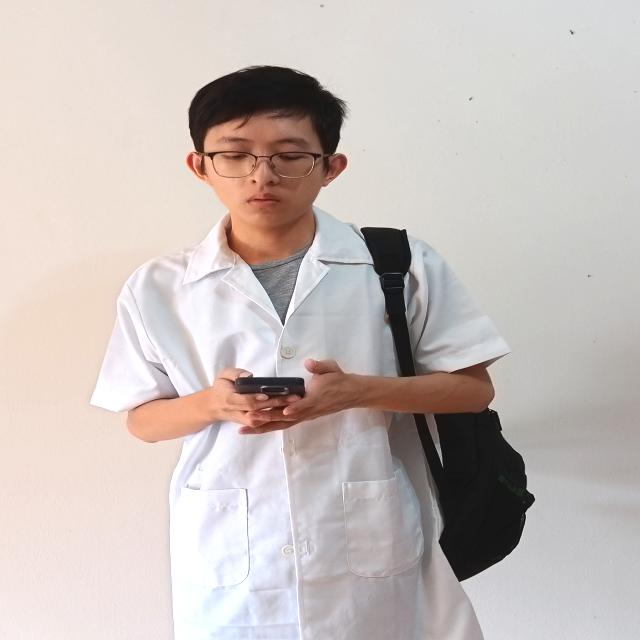person_with_labcoat: (91, 66, 534, 640)
